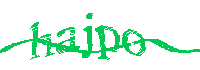a: (56, 25, 77, 55)
h: (30, 21, 54, 60)
j: (82, 12, 94, 59)
o: (121, 29, 147, 56)
p: (95, 25, 120, 60)
